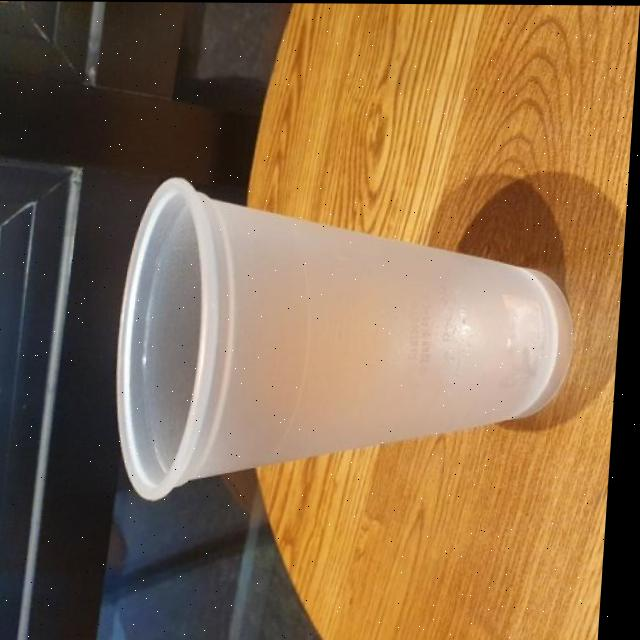cup: (102, 161, 620, 515)
